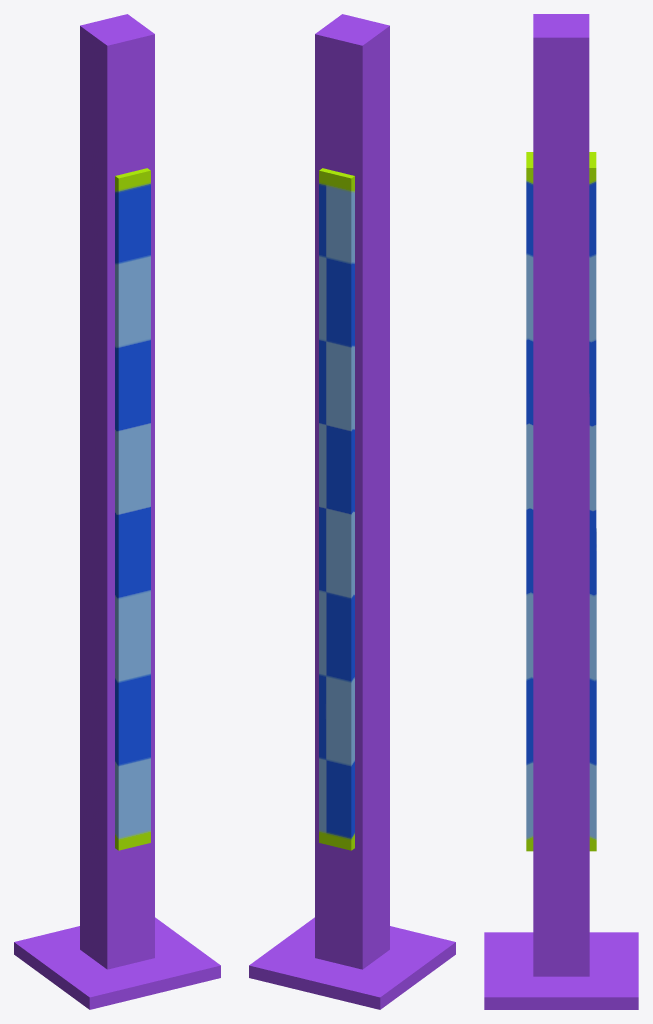
Rendered from LightFloor05_2.FBX.
3 views of the same model, side by side, from view 1: azimuth 30°, elevation 25°; view 2: azimuth 150°, elevation 25°; view 3: azimuth 270°, elevation 25° (orthographic).
Parts seen in each view (by area): view 1: LightFloor05_2; view 2: LightFloor05_2; view 3: LightFloor05_2.
Part boxes in pixels (bbox=[...]): LightFloor05_2: bbox=[14, 14, 220, 1009]; LightFloor05_2: bbox=[249, 14, 455, 1009]; LightFloor05_2: bbox=[484, 14, 638, 1009].
Size of the model in its own units: 22 by 150 by 22.
